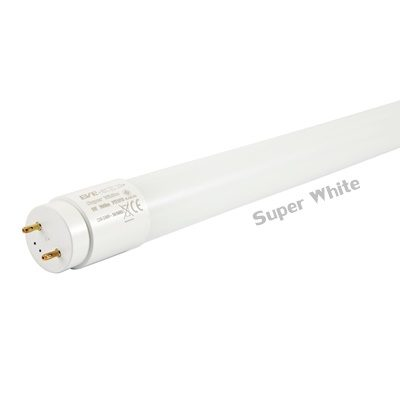Light_bulb: (16, 92, 400, 281)
